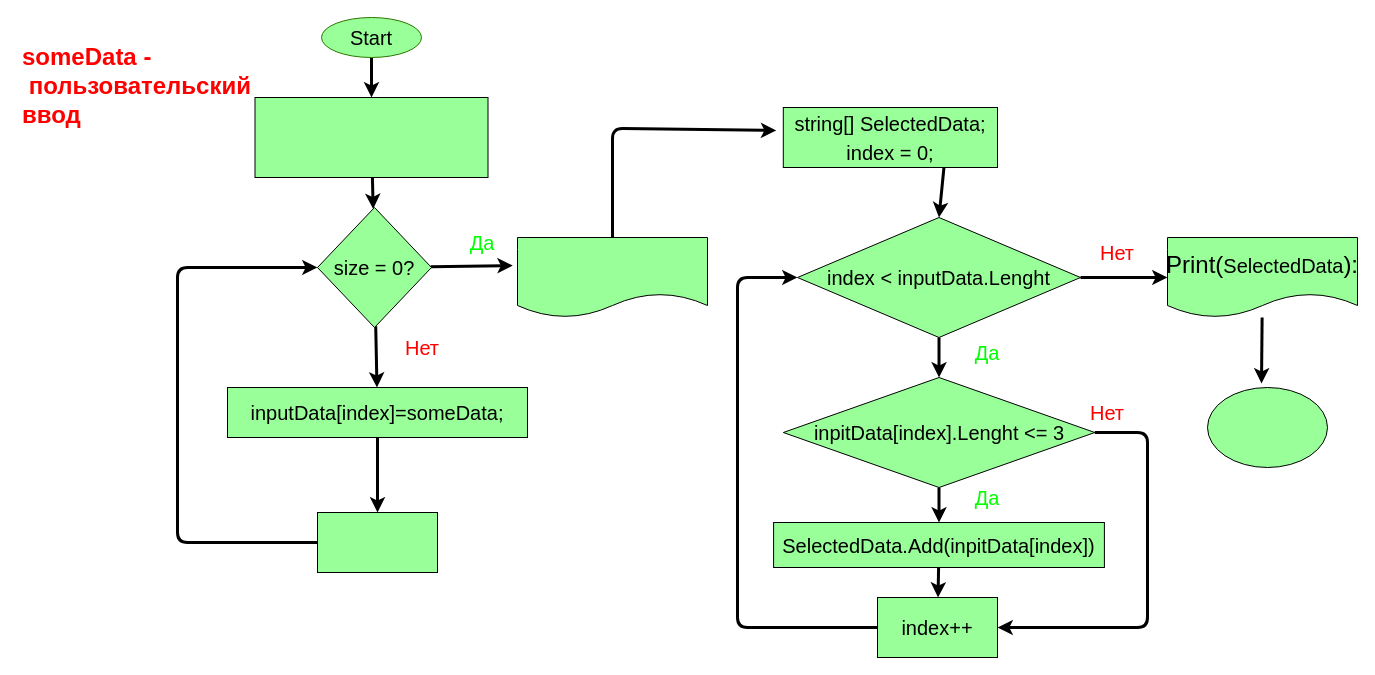
The diagram is 1375 pixels wide and 675 high, and some of its shapes have lost their labels. The centre of each missing label's shape, as x and y in pixels:
"End" belongs at (x=1267, y=427).
"index ++; size --;" belongs at (x=377, y=542).
"int size = someData; string[size] inputData; index = 0;" belongs at (x=371, y=137).
"Print(inputData):" belongs at (x=612, y=277).
